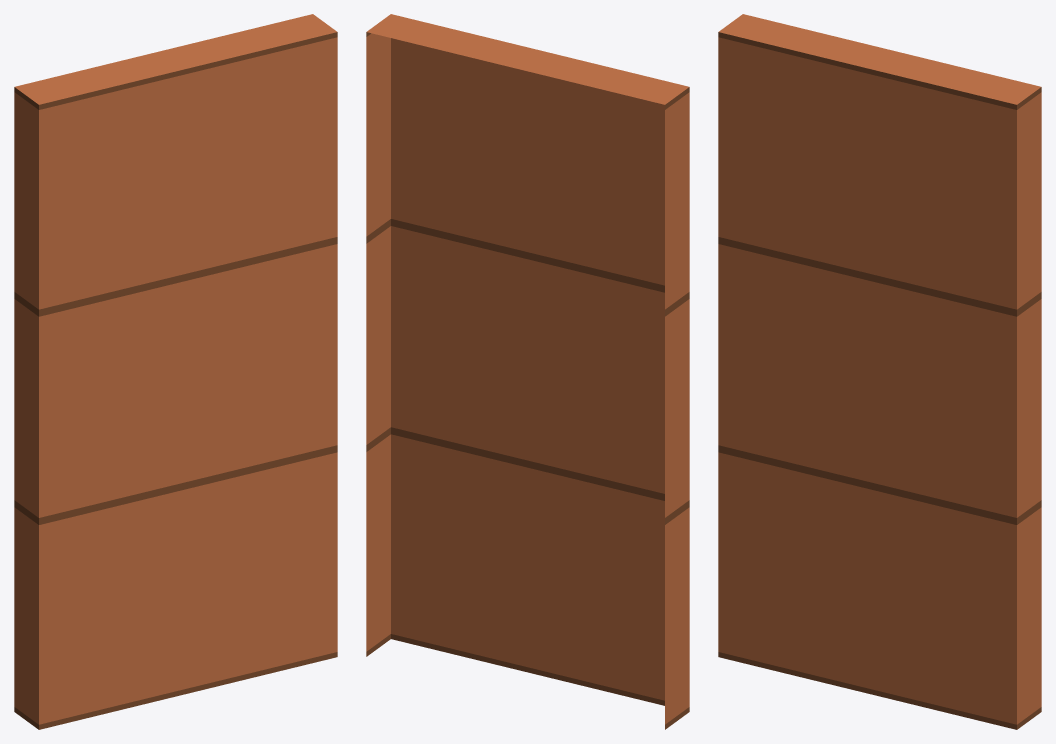
File: M_WallTile175-1Terracotta80.FBX
3 views of the same model, side by side, from view 1: azimuth 30°, elevation 25°; view 2: azimuth 150°, elevation 25°; view 3: azimuth 330°, elevation 25° (orthographic).
Visible parts, largest first — view 1: M_WallTile175-1Terracotta80; view 2: M_WallTile175-1Terracotta80; view 3: M_WallTile175-1Terracotta80.
Part boxes in pixels (bbox=[...]): M_WallTile175-1Terracotta80: bbox=[14, 14, 337, 729]; M_WallTile175-1Terracotta80: bbox=[366, 14, 689, 729]; M_WallTile175-1Terracotta80: bbox=[718, 14, 1041, 729].
Size of the model in its own units: 1.75 by 3.5 by 0.25.
